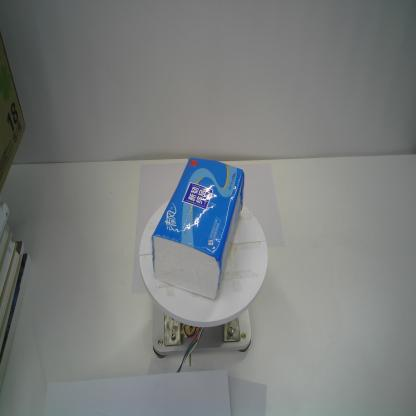Tissue: (150, 155, 246, 303)
